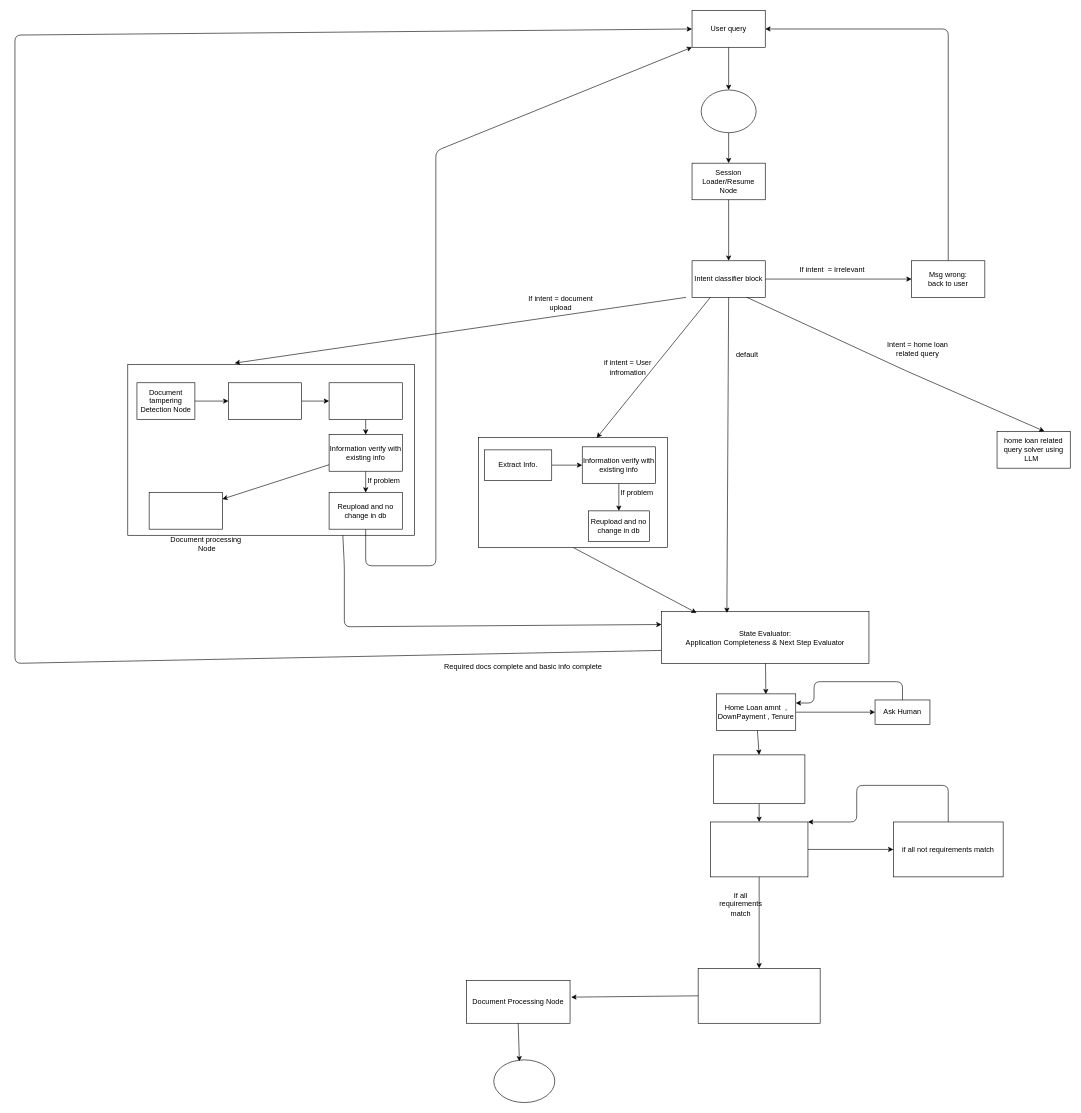
Image size: 1081x1113. Some labels were removed from this diagram. Each missing label, with the centre of its shape:
Changed state and store in db: (x=185, y=510)
Document classification: (x=265, y=400)
end: (x=524, y=1081)
Financial Risk check , LTV, FOIR<CIBIL: (x=759, y=779)
Information Extraction (OCR): (x=365, y=400)
Negotations block: (x=759, y=849)
Property Document collect: (x=759, y=995)
Start: (x=728, y=111)
